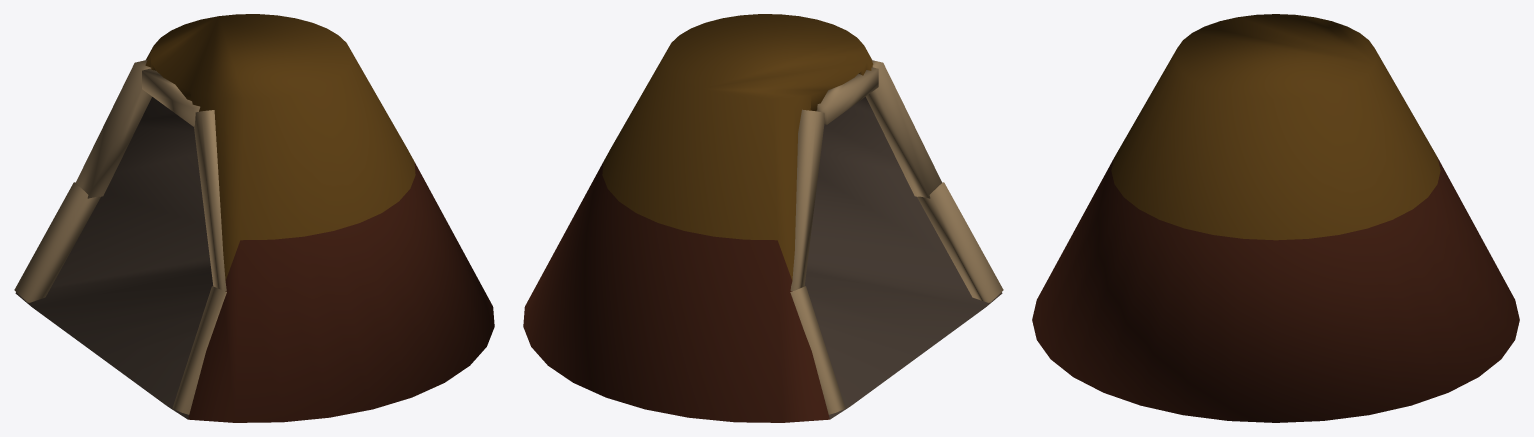
3 views of the same model, side by side, from view 1: azimuth 30°, elevation 25°; view 2: azimuth 150°, elevation 25°; view 3: azimuth 270°, elevation 25° (orthographic).
Parts seen in each view (by area): view 1: 立方体.003; view 2: 立方体.003; view 3: 立方体.003.
Part boxes in pixels (<box>): 立方体.003: <box>14,14,494,422</box>; 立方体.003: <box>523,14,1003,422</box>; 立方体.003: <box>1032,14,1519,422</box>.
Size of the model in its own units: 1235 by 874 by 1433.
